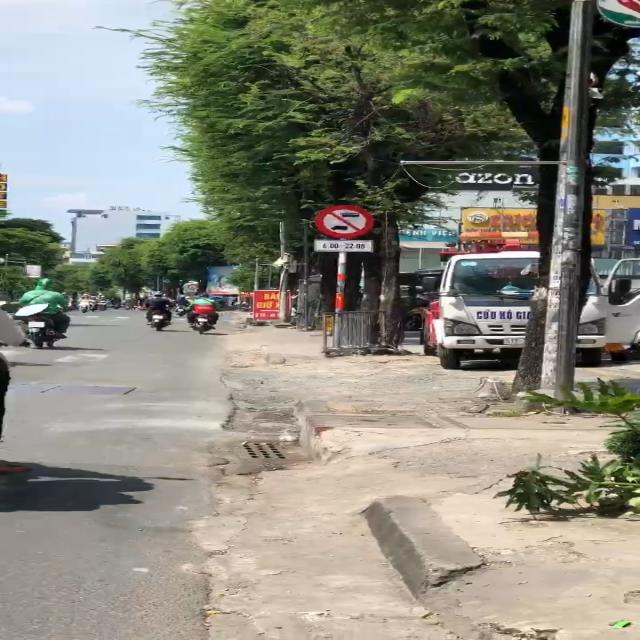Bien bao cam xe oto khach va xe oto tai: (311, 203, 372, 239)
